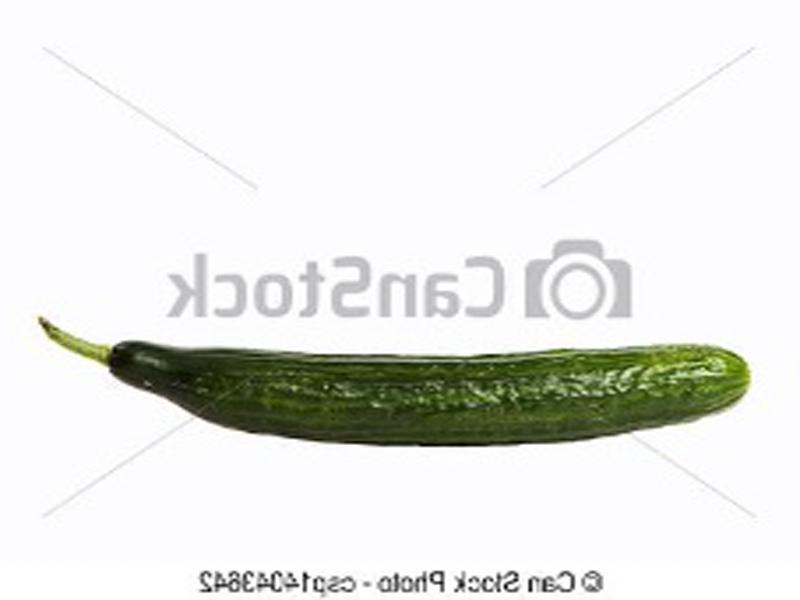Cucumber: (34, 320, 746, 447)
